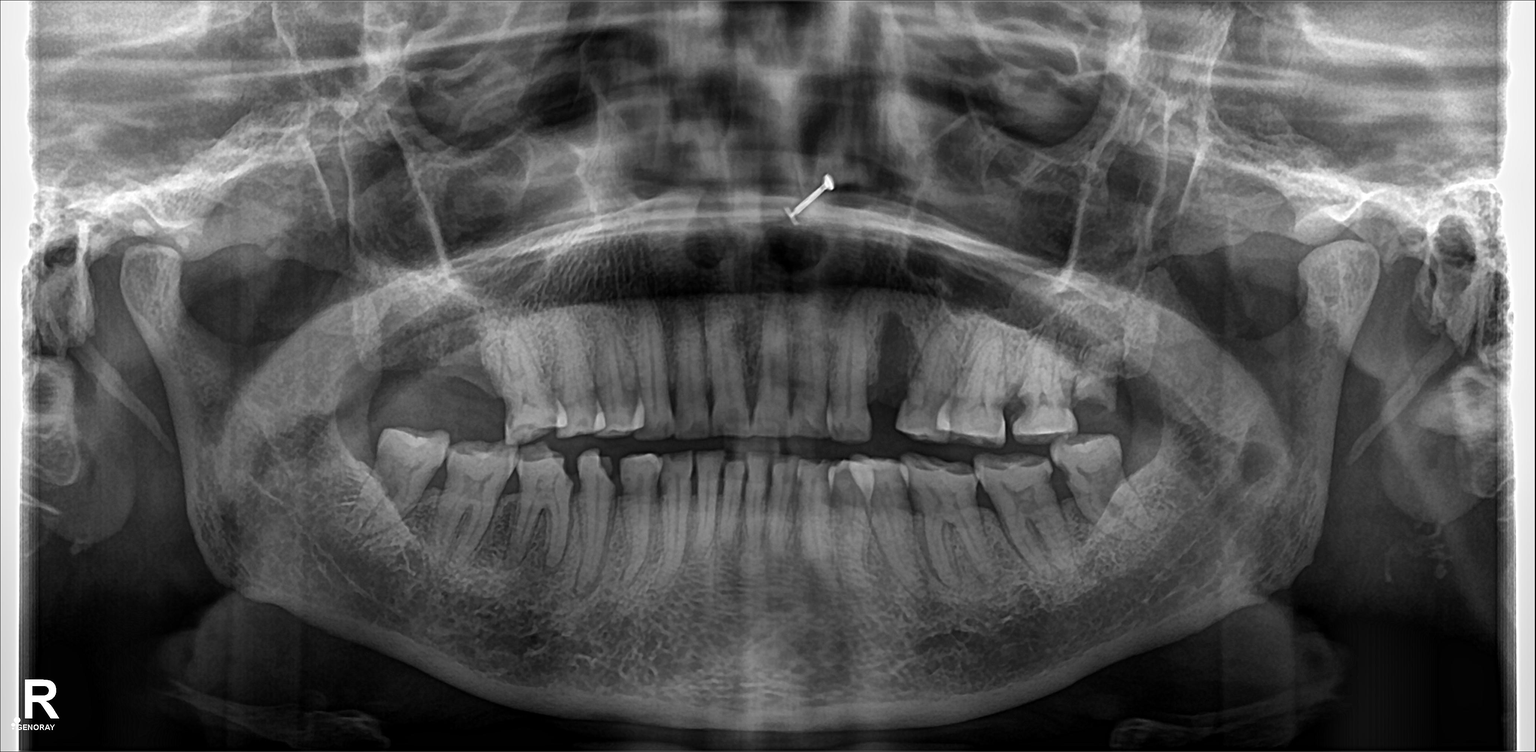Dental Caries: (1000, 396, 1026, 419)
Missing Tooth: (372, 315, 432, 404), (434, 324, 489, 416), (330, 419, 383, 502), (864, 320, 904, 429), (1125, 423, 1164, 495)
Tooth Fracture: (1065, 352, 1113, 425)
